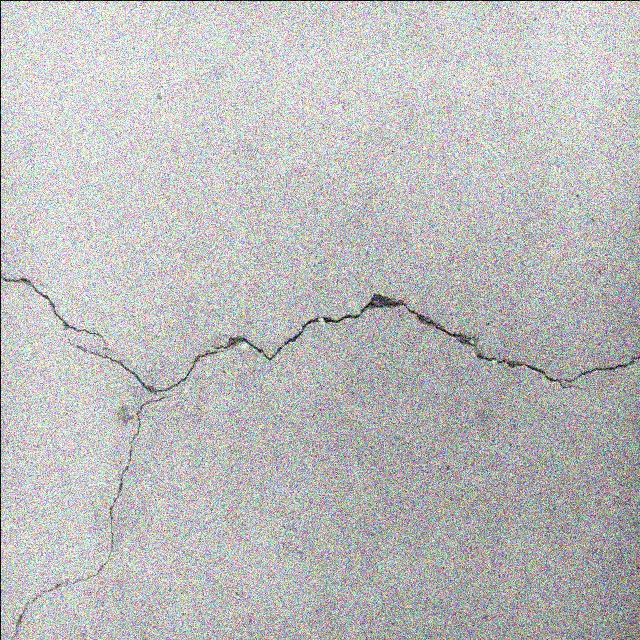SurfaceCrack: (1, 259, 640, 449)
